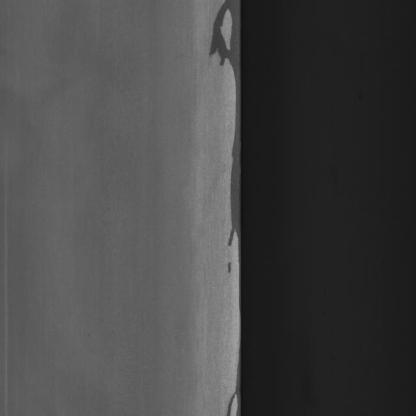water_spot: (206, 0, 250, 397)
